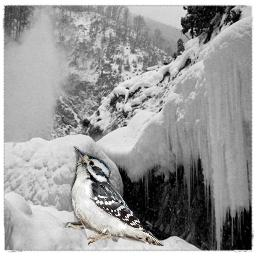Woodpecker: (63, 146, 164, 246)
